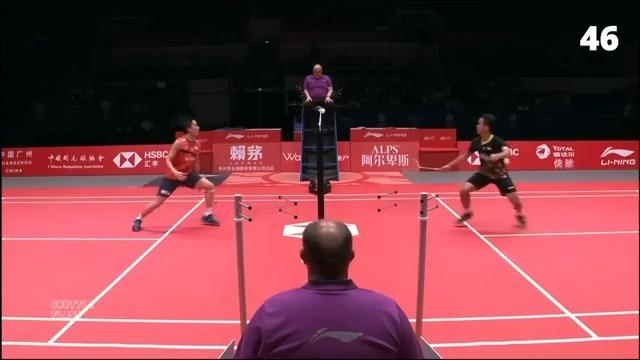Shuttlecock: (316, 105, 328, 116)
